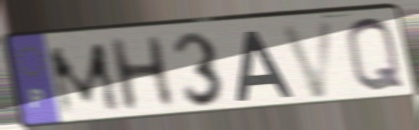3: (172, 30, 227, 110)
A: (234, 28, 297, 104)
H: (104, 32, 180, 115)
M: (44, 40, 125, 119)
Q: (343, 15, 408, 96)
V: (277, 18, 338, 102)
